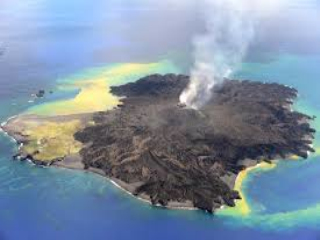smoke: (177, 4, 246, 115)
